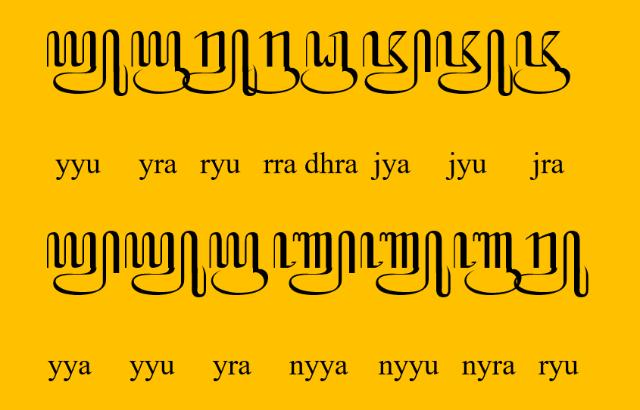dhr: (300, 30, 358, 94)
jr: (514, 30, 570, 94)
jy: (362, 29, 432, 95)
jyu: (436, 29, 512, 97)
nyr: (452, 232, 522, 296)
nyy: (272, 231, 356, 297)
nyyu: (360, 231, 452, 298)
rr: (244, 30, 300, 94)
ryu: (182, 29, 258, 97), (514, 230, 588, 298)
yr: (209, 232, 269, 296), (132, 30, 190, 94)
yy: (46, 230, 120, 296)
yyu: (46, 29, 128, 97), (124, 231, 206, 299)
